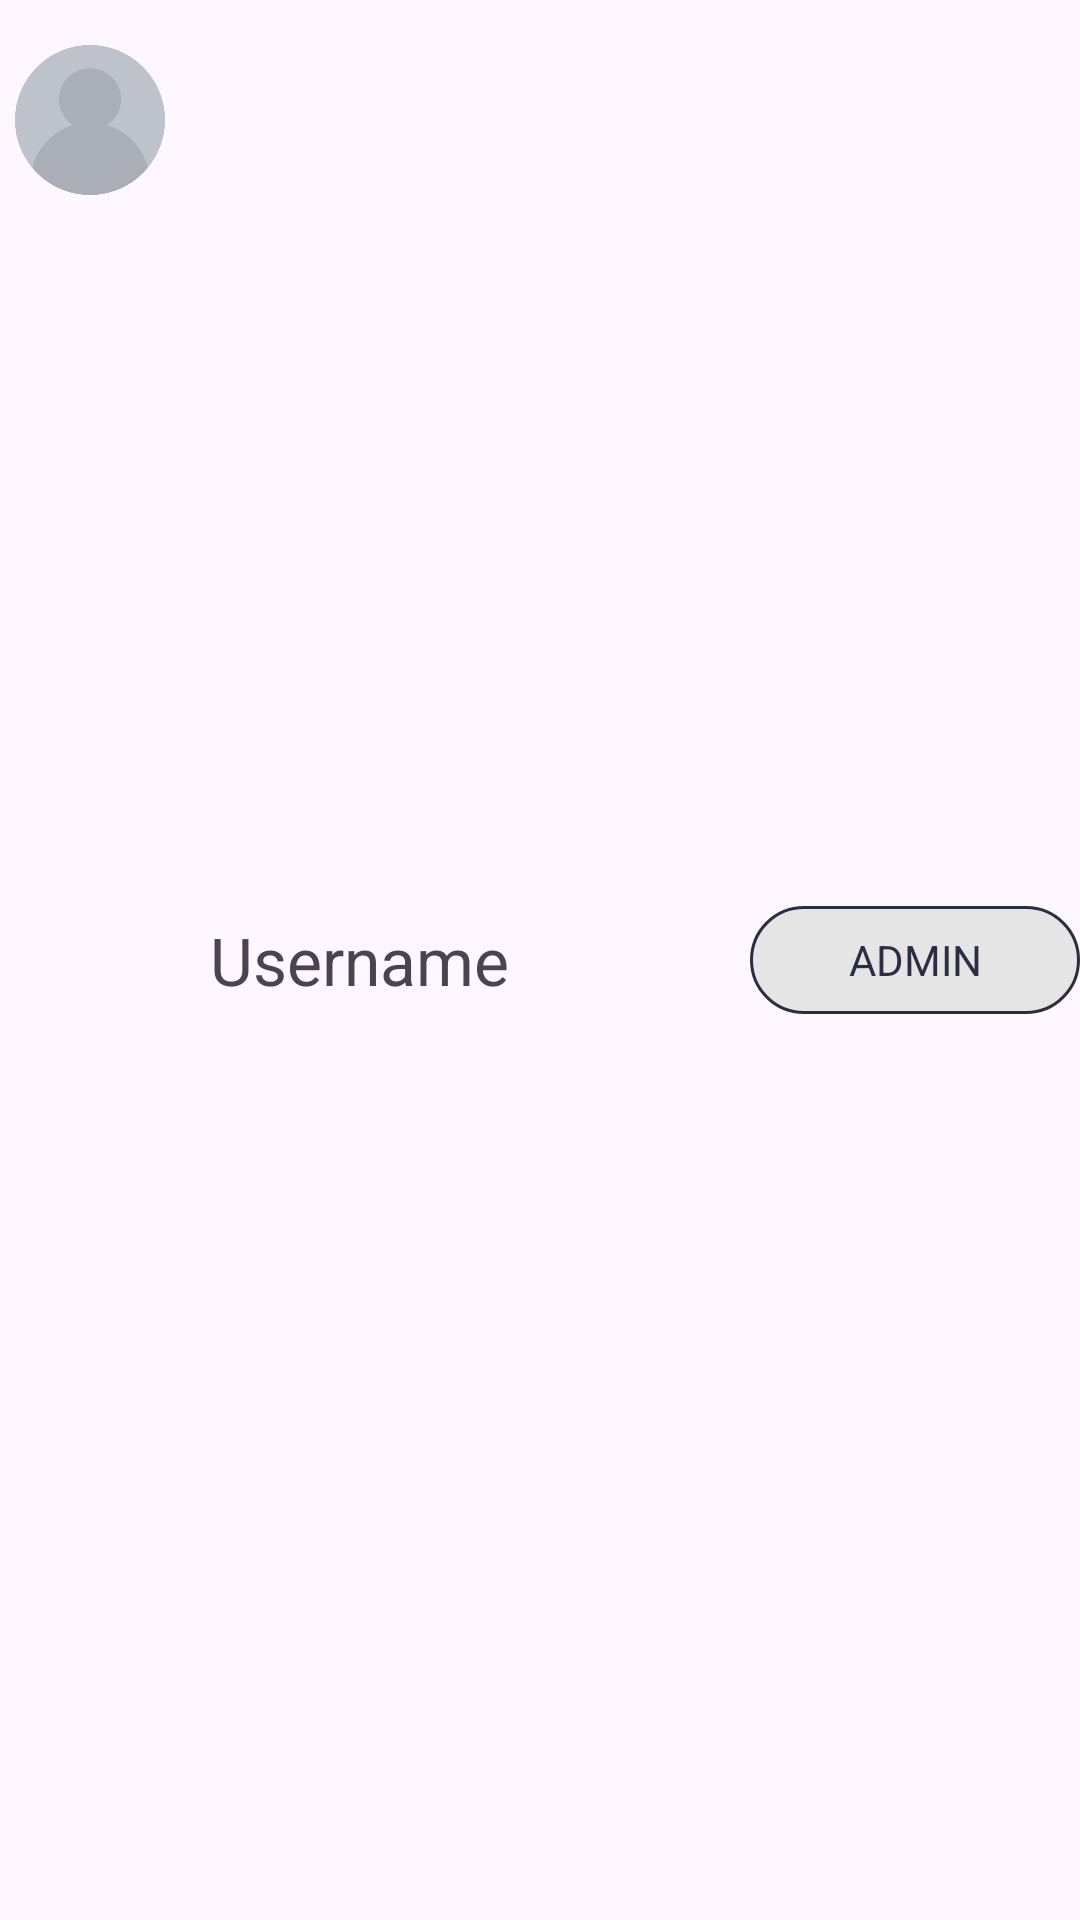

Icons on this 1080 × 1920 Android screen, each with its box as (x1, y1, x2, y2):
user: (15, 45, 165, 195)
